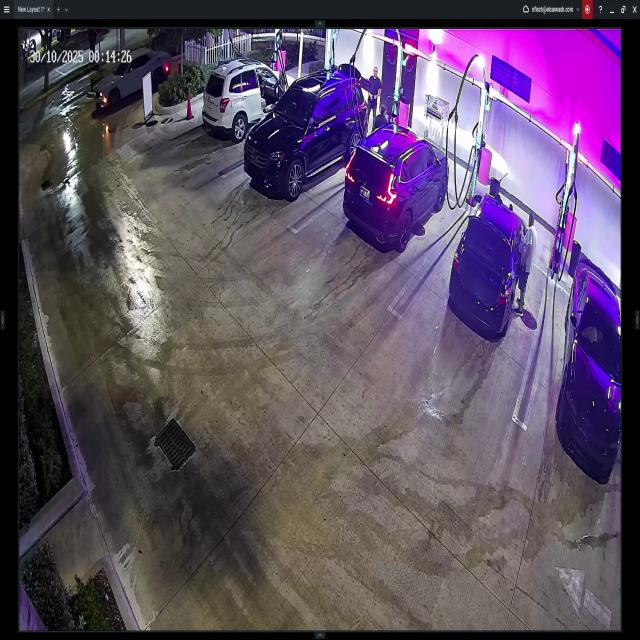Car: (244, 62, 366, 200), (558, 256, 620, 479), (346, 121, 448, 251), (447, 195, 532, 342), (198, 57, 302, 137), (92, 46, 170, 110)
